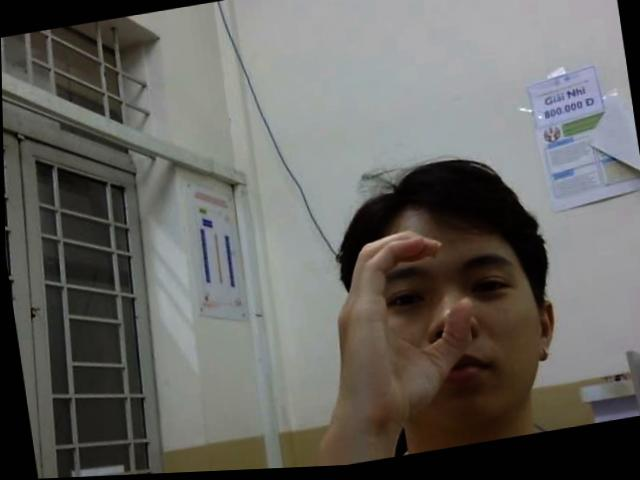C: (314, 224, 485, 434)
